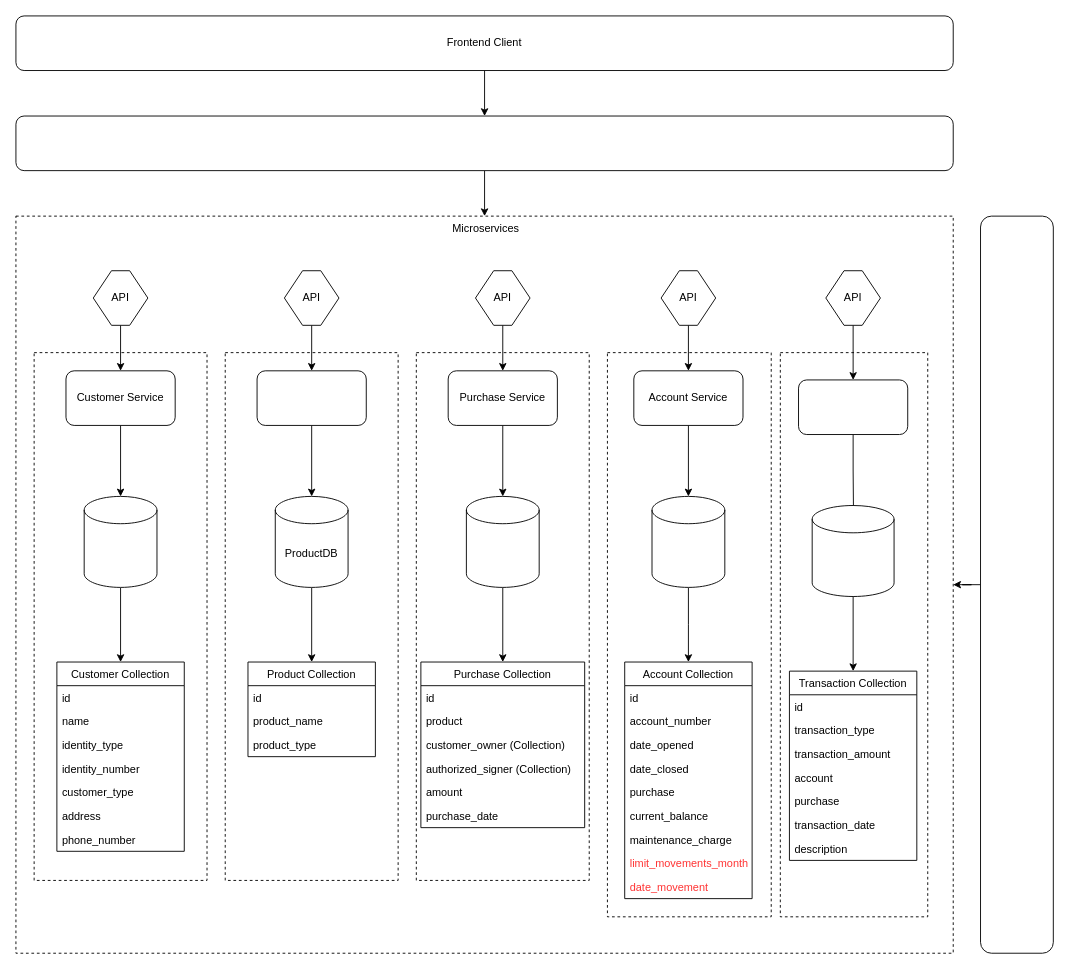
Some shapes in this 1069 by 969 pixel diagram are drawn without their labels. Here are the shapes that lost their labels. From the top down, the centre of each, then its label:
At (484,143): "API Gateway".
At (311,397): "Product Service".
At (853,407): "Transaction Service".
At (120,541): "CustomerDB".
At (502,541): "PurchaseDB".
At (688,541): "AccountDB".
At (852,551): "TransactionDB".
At (1016,584): "Config Server".
